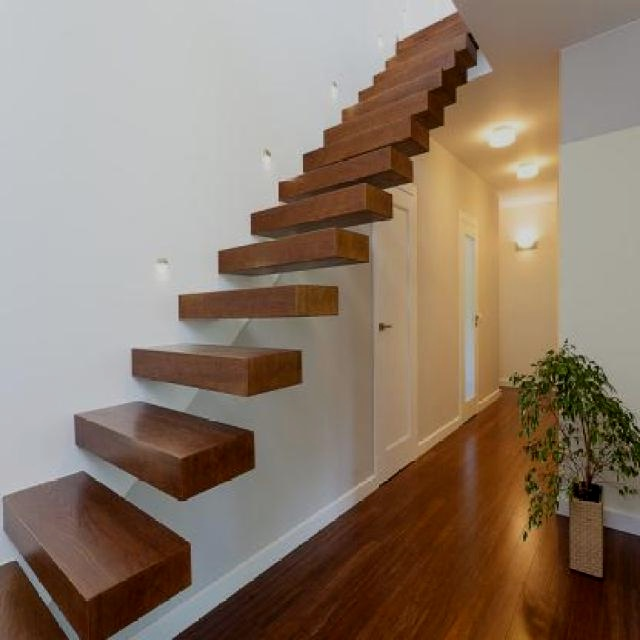stair: (2, 9, 503, 640)
